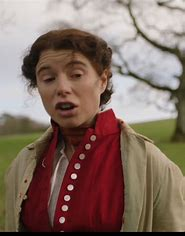person: (22, 27, 112, 128)
